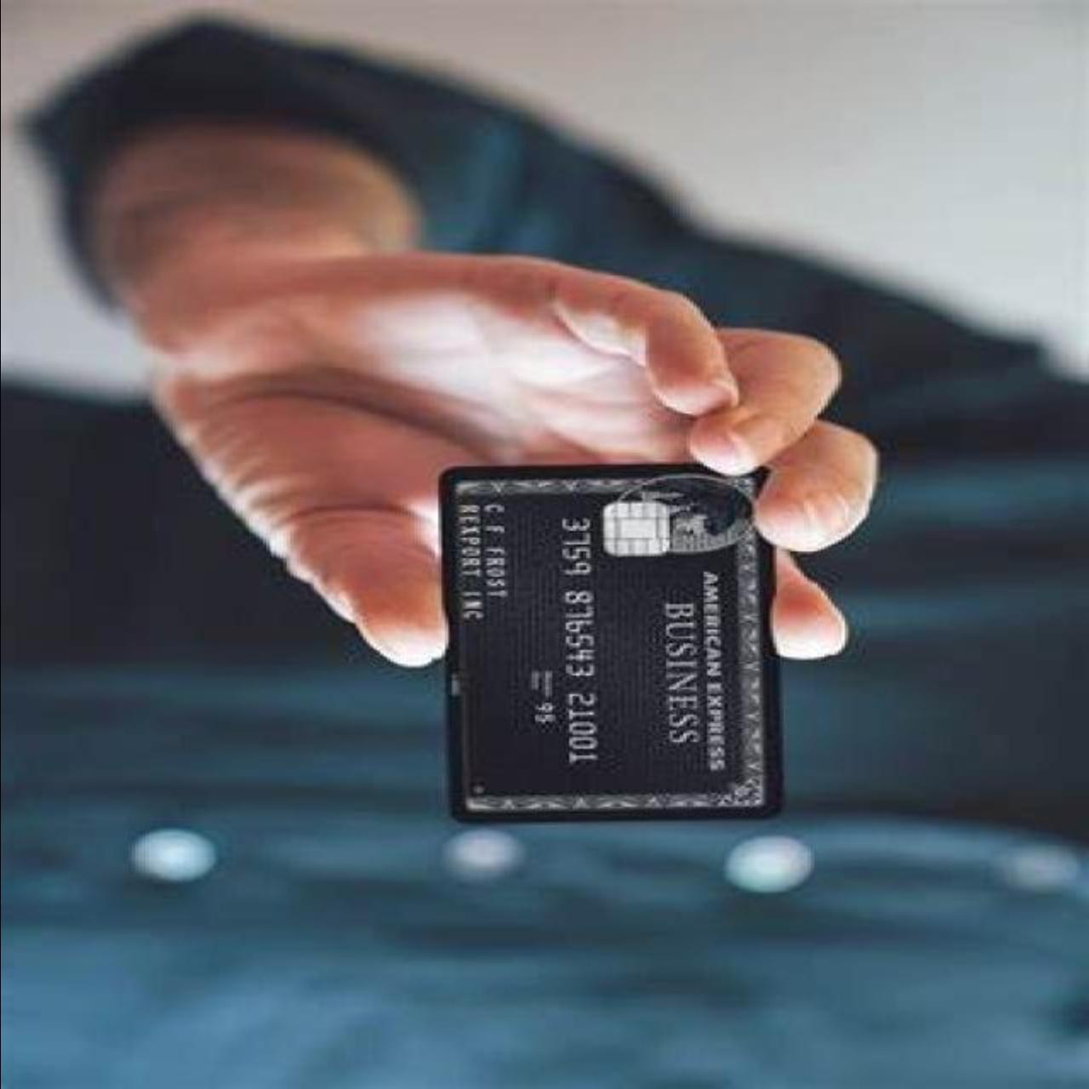credit_card: (446, 442, 779, 841)
